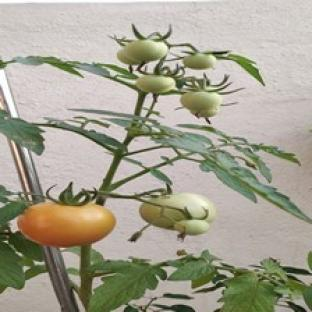Tomato: (17, 202, 115, 246), (140, 193, 215, 229), (123, 39, 168, 62), (180, 91, 222, 111), (137, 76, 175, 94), (175, 219, 210, 235), (183, 53, 217, 69), (117, 49, 140, 65), (191, 108, 220, 118)
